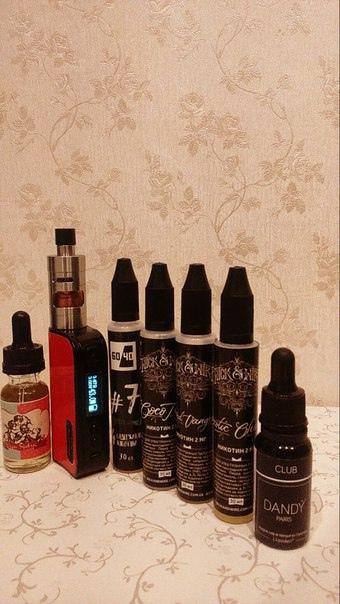Vape: (47, 230, 108, 477)
